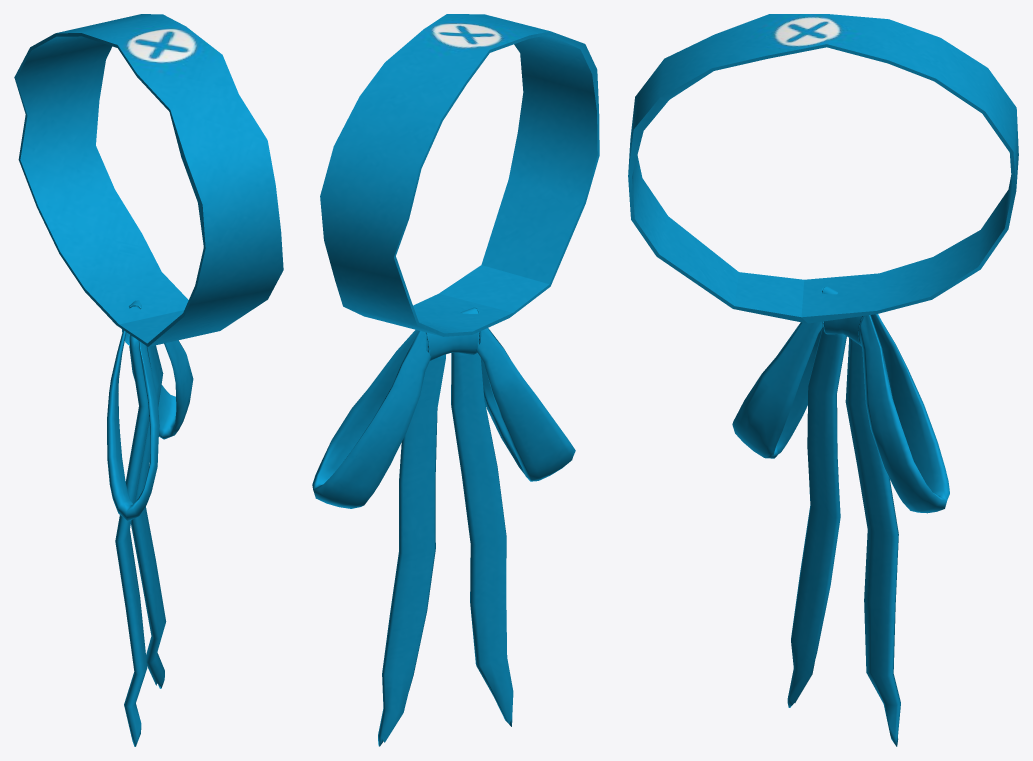
3 views of the same model, side by side, from view 1: azimuth 30°, elevation 25°; view 2: azimuth 150°, elevation 25°; view 3: azimuth 270°, elevation 25° (orthographic).
Visible parts, largest first — view 1: ribbon; view 2: ribbon; view 3: ribbon.
Boxes of the visible parts, x1,y1,x2,y2 form: ribbon: [14, 14, 283, 746]; ribbon: [312, 14, 599, 746]; ribbon: [628, 14, 1018, 746].
Size of the model in its own units: 5.43 by 21.81 by 11.06.
1 material, 1 textured.
